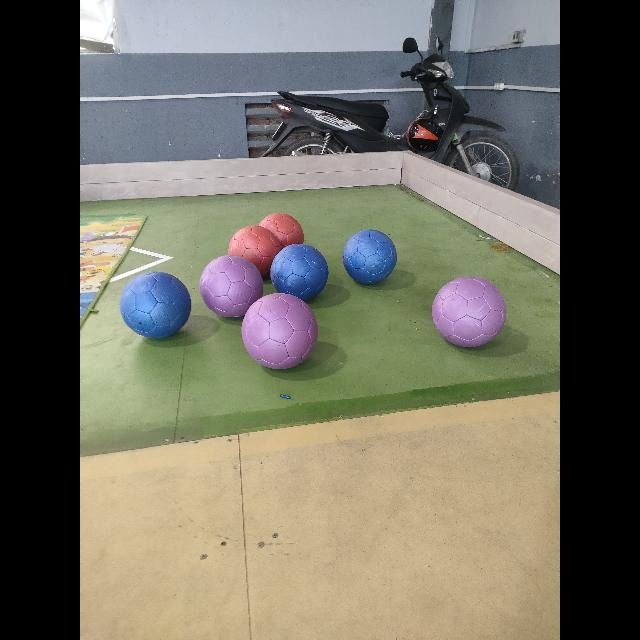B: (120, 272, 192, 338), (270, 243, 328, 300), (343, 229, 397, 283)
P: (242, 293, 318, 369), (432, 276, 506, 346), (202, 254, 264, 318)
R: (228, 226, 284, 278), (261, 214, 305, 256)
